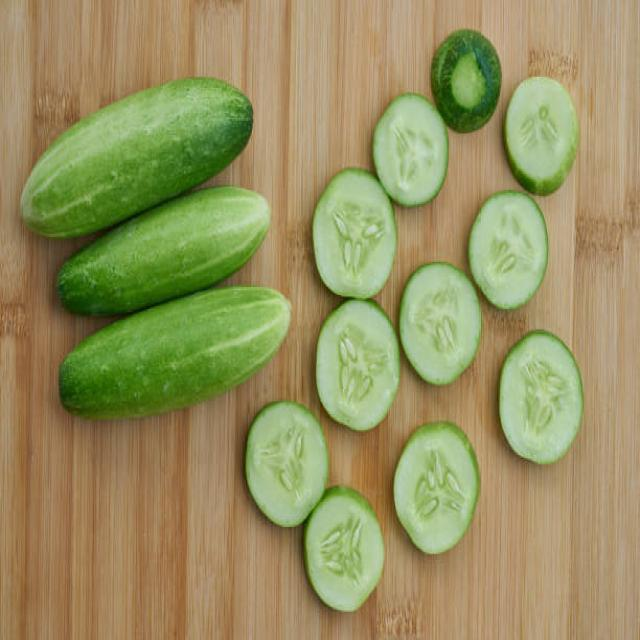cucumber: (20, 76, 254, 238), (60, 286, 292, 419), (54, 186, 272, 316)
